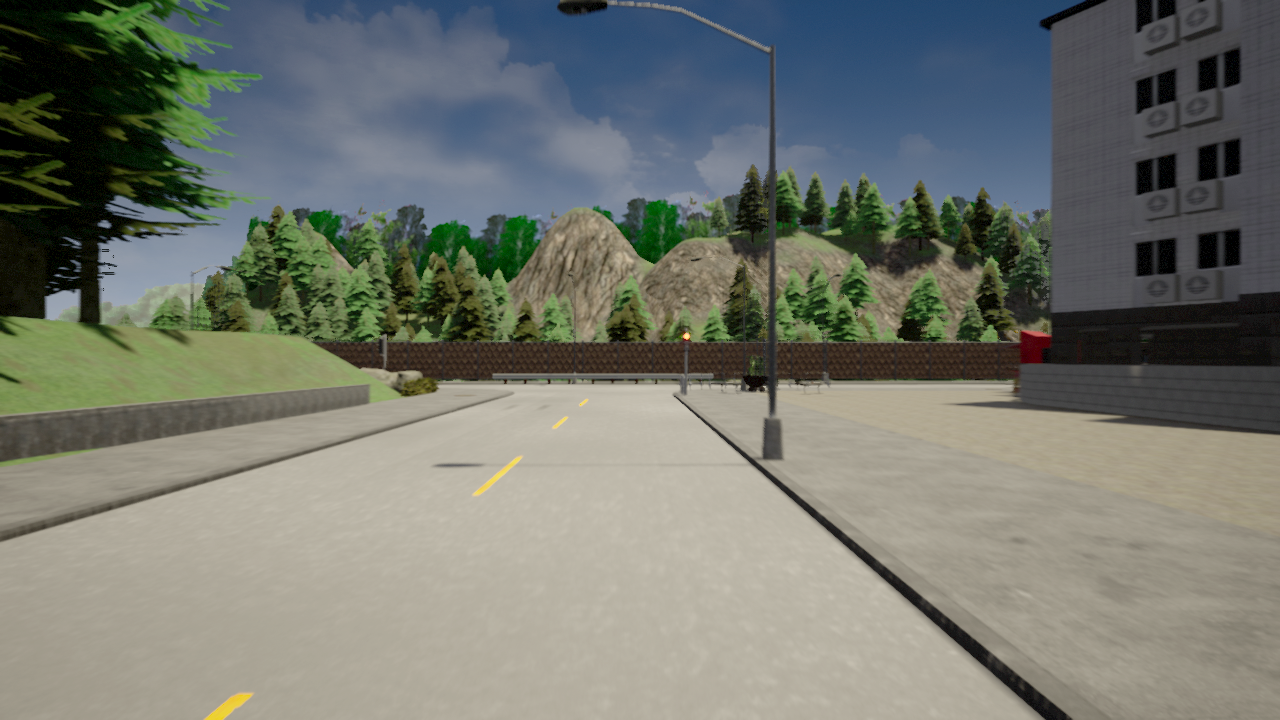red: (681, 332, 691, 351)
